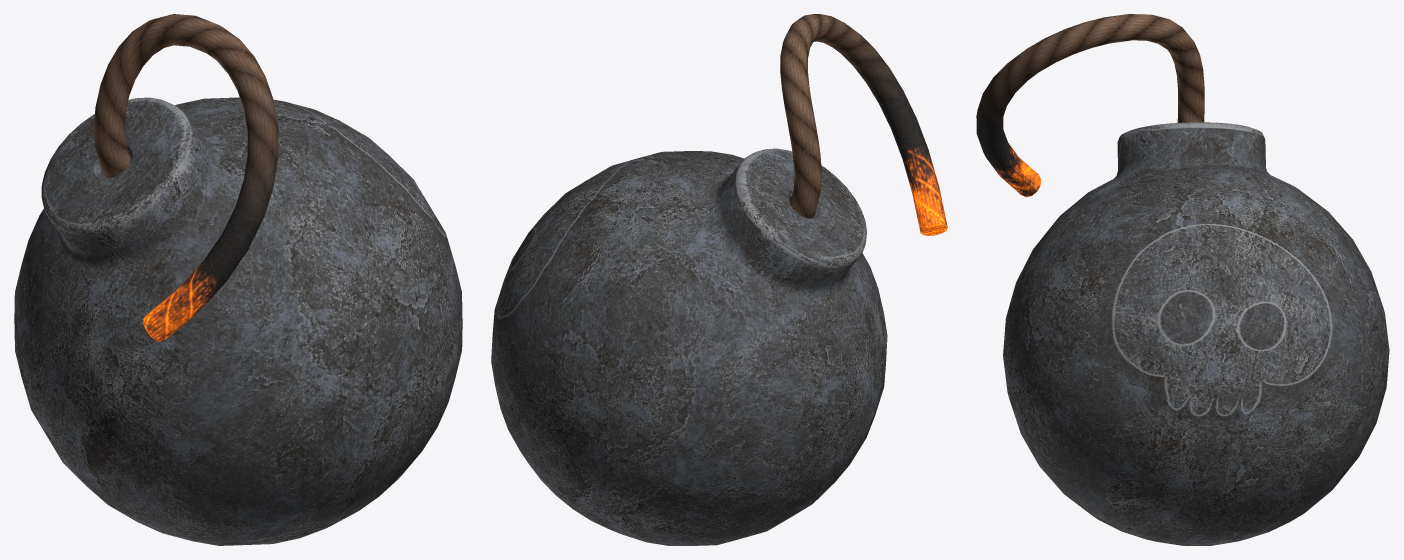
File: comical_bomb.glb
The picture shows the model from 3 angles, left to right: view 1: azimuth 30°, elevation 25°; view 2: azimuth 150°, elevation 25°; view 3: azimuth 270°, elevation 25°; orthographic projection. The views are drawn at different scales.
Visible parts, largest first — view 1: BezierCurve001; view 2: BezierCurve001; view 3: BezierCurve001.
Boxes of the visible parts, x1,y1,x2,y2 form: BezierCurve001: (14,14,462,545); BezierCurve001: (491,14,947,545); BezierCurve001: (976,14,1389,545).
Bounding box in the file's own units: 2 × 2.73 × 2.13.
1 material, 1 textured.
